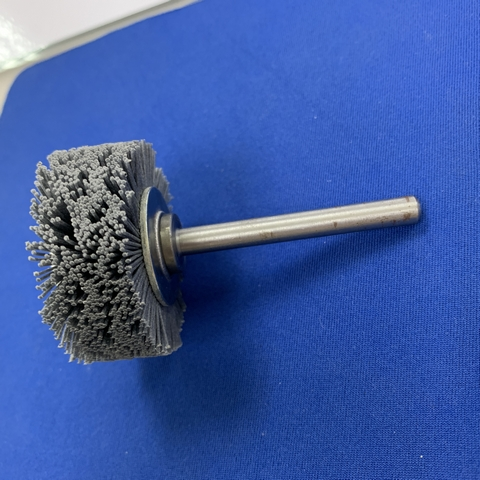Wheel Brush: (25, 135, 415, 363), (35, 151, 460, 359), (15, 141, 375, 376), (20, 123, 344, 366)
